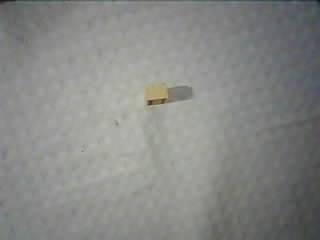lego: (142, 81, 169, 107)
